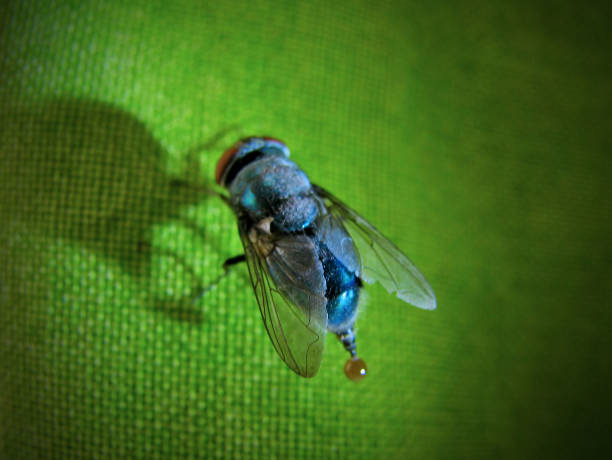Fruit fly: (171, 108, 442, 408)
